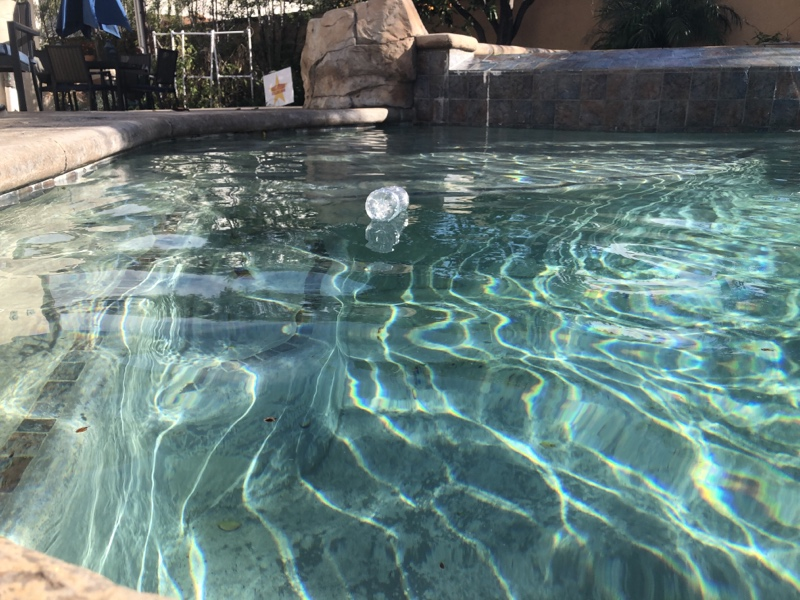Plastic Bottle: (363, 187, 411, 224)
